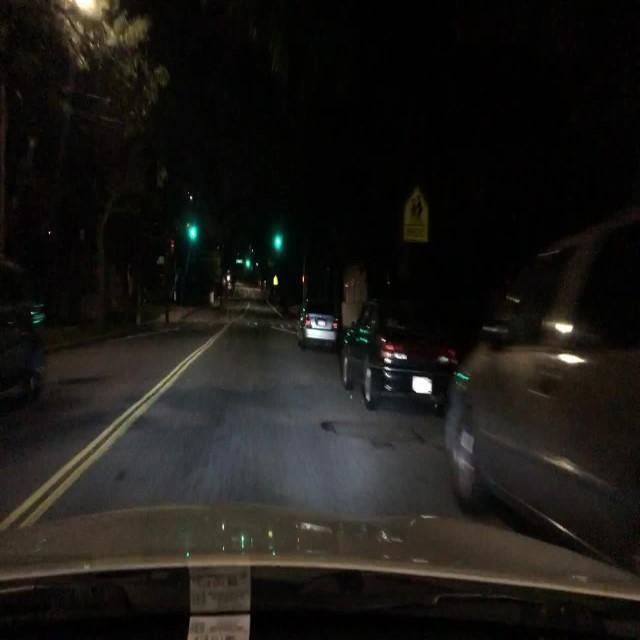normal: (294, 312, 339, 352)
